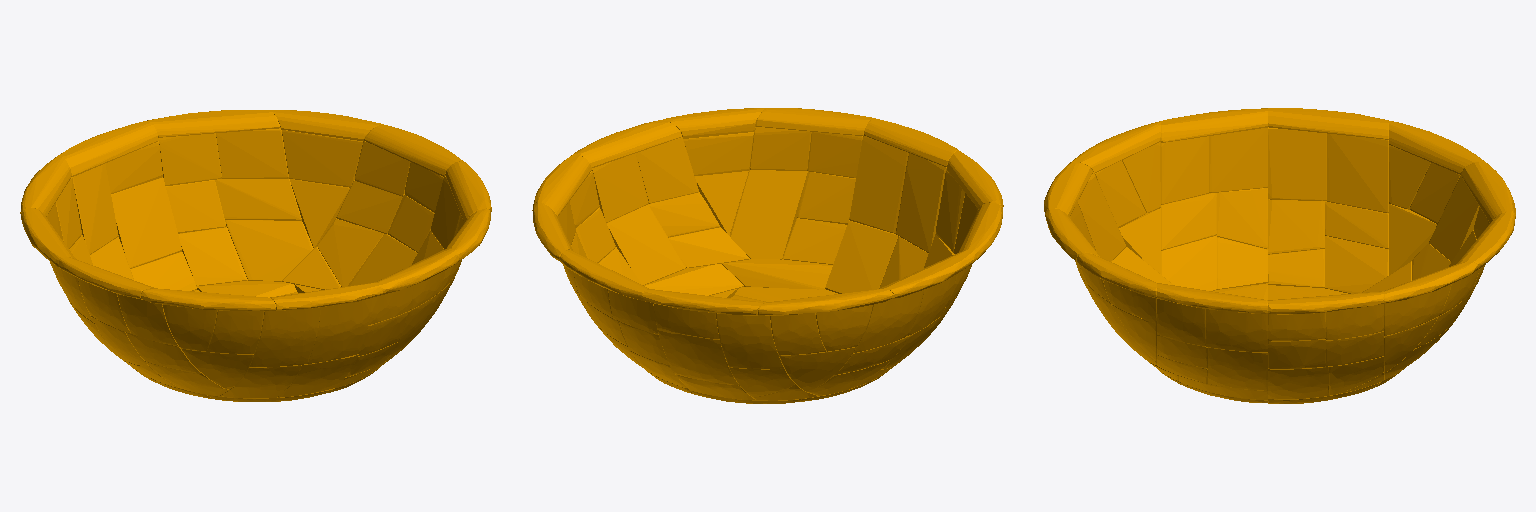
robot.urdf — 024_bowl:
<?xml version="1.0" encoding="UTF-8"?>
<robot name="024_bowl">
	<link name="base">
		<collision>
			<geometry>
				<mesh filename="..\vhacd\024_bowl_vhacd.obj" scale="1.0 1.0 1.0"/>
			</geometry>
			<origin xyz="0 0 0"/>
			<contact_coefficients mu="0.24" />
		</collision>
		<visual>
			<geometry>
				<mesh filename="..\vhacd\024_bowl_vhacd.obj" scale="1.0 1.0 1.0"/>
			</geometry>
			<origin xyz="0 0 0"/>
		</visual>
		<inertial>
			<mass value="0"/>
			<inertia ixx="0.0" ixy="0.0" ixz="-0.0" iyy="0.0" iyz="0.0" izz="0.0" />
			<origin xyz="-0.014272484721819478 -0.045728421598020756 0.02677234827088197"/>
		</inertial>
	</link>
</robot>

--- Render facts (derived) ---
Views: 3 orthographic renders of the robot side by side, from view 1: azimuth 30°, elevation 25°; view 2: azimuth 150°, elevation 25°; view 3: azimuth 270°, elevation 25°.
Robot: 024_bowl — 1 links, 0 joints (none); root link base; default pose: every joint at zero.
Visible links, largest first — view 1: base; view 2: base; view 3: base.
Link boxes in pixels (left/top/right/bottom): base: left=20, top=110, right=491, bottom=401; base: left=532, top=108, right=1003, bottom=403; base: left=1044, top=108, right=1515, bottom=403.
Size in the robot's own frame: 0.1617 by 0.1615 by 0.0554 metres.
Meshes: 1 distinct files referenced, 1 mesh visuals loaded (1 OBJ).